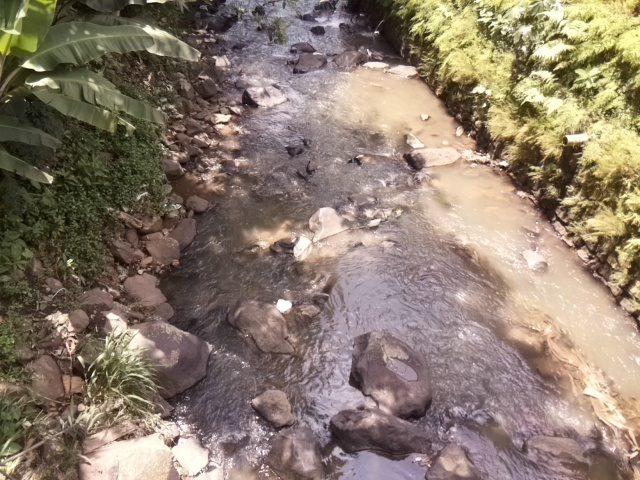Sampah_Plastik: (291, 235, 316, 259)
Sampah_Styrofoam: (275, 296, 292, 316)
